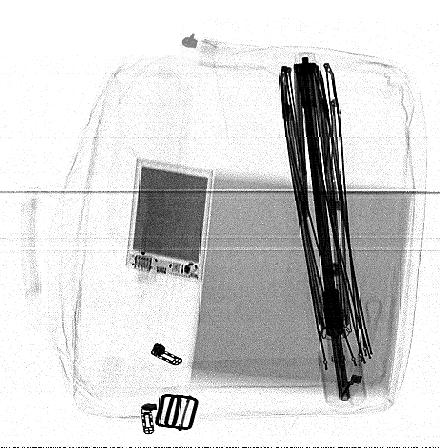Powerbank: (125, 157, 214, 282)
